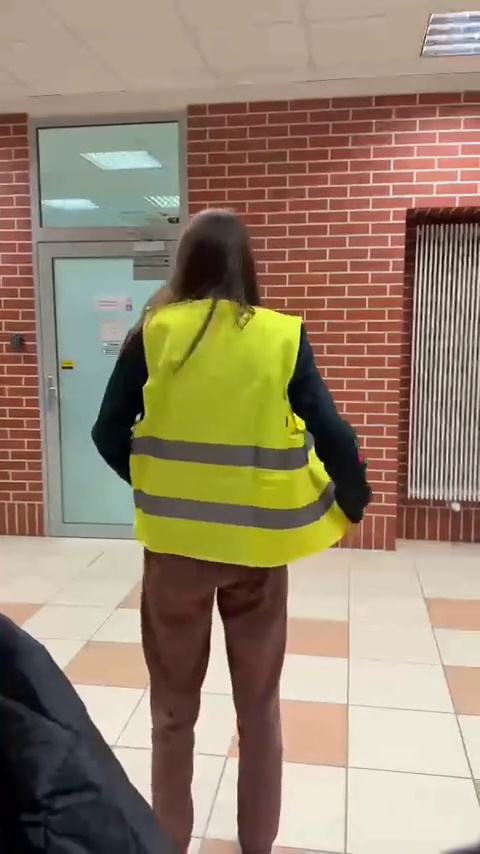vest: (96, 210, 378, 848)
